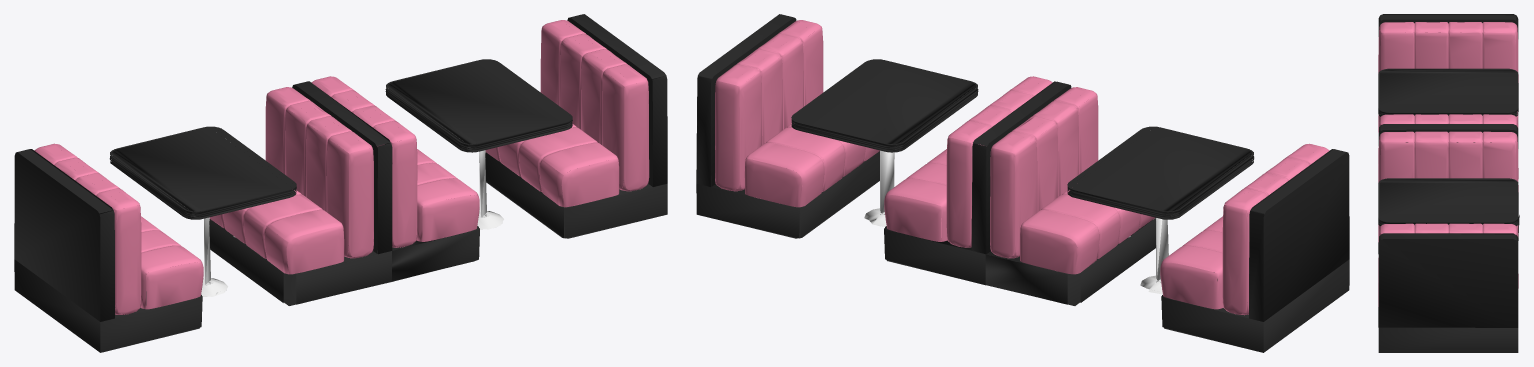
File: boothv2.fbx
3 renders of one model, left to right at view 1: azimuth 30°, elevation 25°; view 2: azimuth 150°, elevation 25°; view 3: azimuth 270°, elevation 25°, orthographic. The views are drawn at different scales.
Visible parts, largest first — view 1: Object_20, Object_7, Object_3, Object_14, Object_13, Object_19, Object_10, Object_2, Object_16, Object_12, Object_5, Object_6 (+4 smaller); view 2: Object_20, Object_7, Object_3, Object_14, Object_13, Object_19, Object_10, Object_2, Object_16, Object_12, Object_5, Object_6 (+6 smaller); view 3: Object_15, Object_6, Object_5, Object_13, Object_14, Object_12, Object_3, Object_7, Object_20, Object_21.
Boxes of the visible parts, box(x1,y1,x2,y2) form: Object_20: box(14, 149, 114, 321); Object_7: box(265, 87, 373, 258); Object_3: box(540, 20, 649, 191); Object_14: box(385, 59, 572, 152); Object_13: box(109, 126, 296, 219); Object_19: box(209, 219, 479, 305); Object_10: box(209, 190, 344, 274); Object_2: box(485, 124, 619, 207); Object_16: box(14, 259, 202, 352); Object_12: box(485, 152, 667, 238); Object_5: box(34, 143, 141, 314); Object_6: box(311, 76, 417, 247); Object_20: box(1249, 149, 1349, 321); Object_7: box(990, 87, 1098, 258); Object_3: box(715, 20, 823, 191); Object_14: box(791, 59, 978, 152); Object_13: box(1067, 126, 1254, 219); Object_19: box(884, 218, 1155, 305); Object_10: box(1020, 190, 1155, 274); Object_2: box(744, 123, 879, 207); Object_16: box(1161, 259, 1349, 352); Object_12: box(696, 151, 879, 238); Object_5: box(1222, 143, 1329, 315); Object_6: box(946, 76, 1052, 247); Object_15: box(1378, 233, 1518, 327); Object_6: box(1378, 131, 1518, 191); Object_5: box(1378, 22, 1518, 82); Object_13: box(1378, 68, 1518, 116); Object_14: box(1378, 178, 1518, 226); Object_12: box(1378, 322, 1518, 352); Object_3: box(1378, 223, 1518, 306); Object_7: box(1378, 114, 1518, 178); Object_20: box(1378, 14, 1518, 38); Object_21: box(1378, 124, 1518, 148).
Size of the model in its own units: 8172 by 1934 by 2166.
